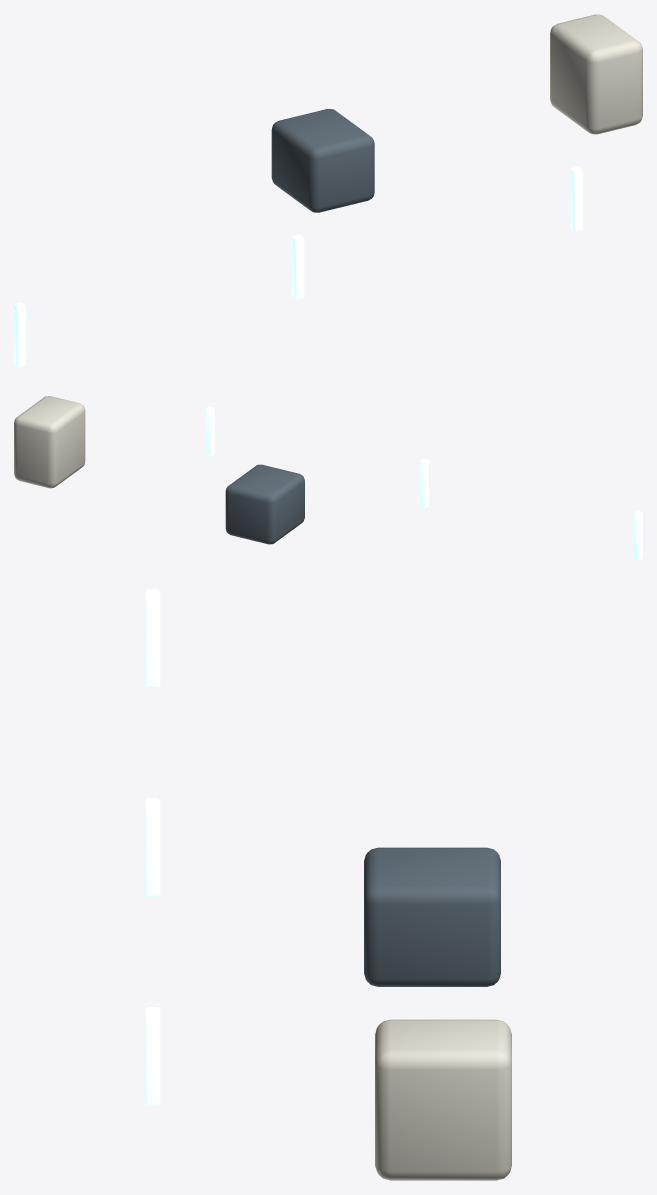
Rendered from growth.glb.
3 views of the same model, one above another, from view 1: azimuth 30°, elevation 25°; view 2: azimuth 150°, elevation 25°; view 3: azimuth 270°, elevation 25° (orthographic). The views are drawn at different scales.
Parts seen in each view (by area): view 1: Growth__Research__OpenStudio, Growth__Compute__NewCapacityPod, Growth__Campus__StatusPylon_02, Growth__Campus__StatusPylon_01, Growth__Campus__StatusPylon_00; view 2: Growth__Research__OpenStudio, Growth__Compute__NewCapacityPod, Growth__Campus__StatusPylon_00, Growth__Campus__StatusPylon_01, Growth__Campus__StatusPylon_02; view 3: Growth__Research__OpenStudio, Growth__Compute__NewCapacityPod, Growth__Campus__StatusPylon_00, Growth__Campus__StatusPylon_01, Growth__Campus__StatusPylon_02.
Part boxes in pixels (<box>): Growth__Research__OpenStudio: <box>550,14,642,134</box>; Growth__Compute__NewCapacityPod: <box>271,109,374,212</box>; Growth__Campus__StatusPylon_02: <box>570,166,582,231</box>; Growth__Campus__StatusPylon_01: <box>292,234,304,299</box>; Growth__Campus__StatusPylon_00: <box>14,302,25,367</box>; Growth__Research__OpenStudio: <box>14,396,85,488</box>; Growth__Compute__NewCapacityPod: <box>225,464,304,544</box>; Growth__Campus__StatusPylon_00: <box>633,511,642,560</box>; Growth__Campus__StatusPylon_01: <box>419,458,428,508</box>; Growth__Campus__StatusPylon_02: <box>205,406,214,456</box>; Growth__Research__OpenStudio: <box>375,1019,511,1180</box>; Growth__Compute__NewCapacityPod: <box>364,847,500,986</box>; Growth__Campus__StatusPylon_00: <box>145,589,160,688</box>; Growth__Campus__StatusPylon_01: <box>145,798,160,896</box>; Growth__Campus__StatusPylon_02: <box>145,1007,160,1105</box>.
Bounding box in the file's own units: 22.74 × 3.1 × 6.69.
